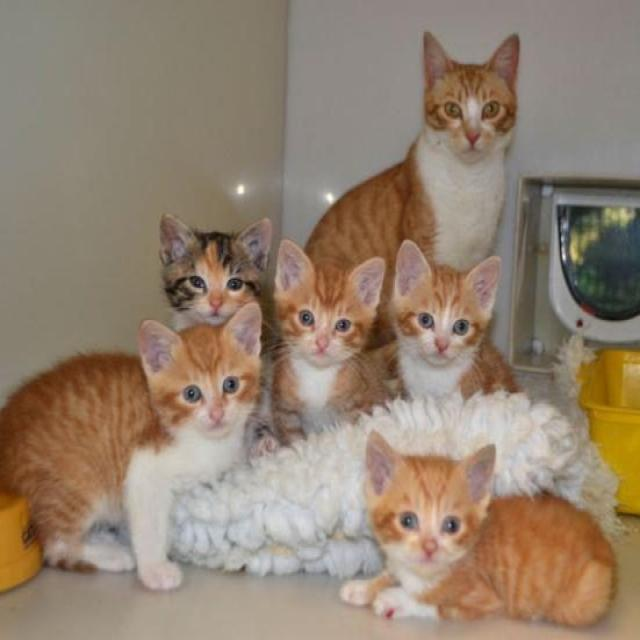cat: (3, 22, 633, 637)
